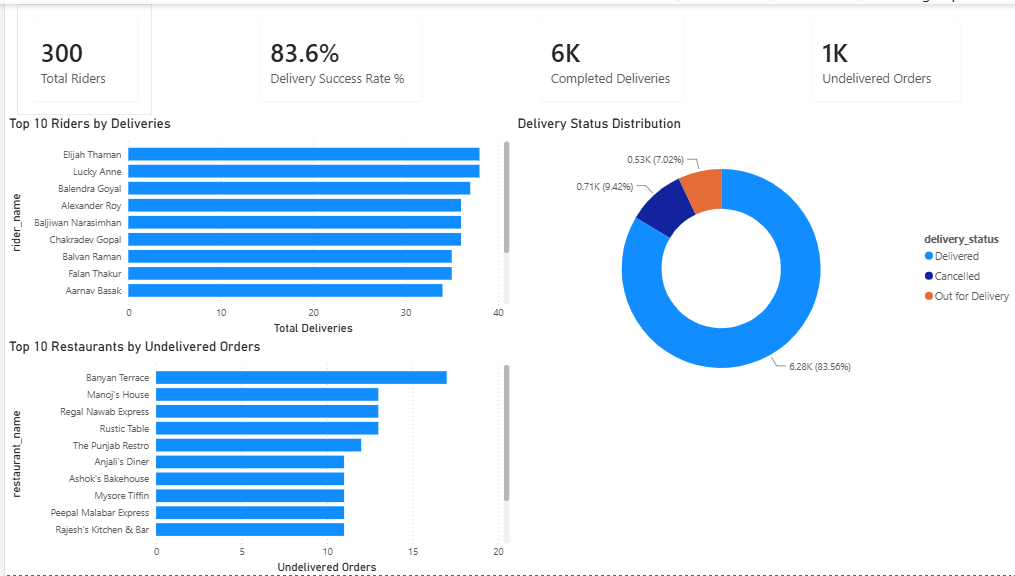

The page's visual inventory and layout, read from the dashboard file:
{"tool":"powerbi","page":{"name":"Delivery & Rider Ops","canvas":[1280,720],"ordinal":3},"visuals":[{"type":"cardVisual","fields":{"Data":["Customer Category.Total Riders"]},"box":[15.1,0,170.4,140.2],"z":0},{"type":"cardVisual","fields":{"Data":["Customer Category.Completed Deliveries"]},"box":[658,0,215.7,140.2],"z":1000},{"type":"cardVisual","fields":{"Data":["Customer Category.Undelivered Orders"]},"box":[998.8,0,222.2,140.2],"z":2000},{"type":"cardVisual","fields":{"Data":["Customer Category.Delivery Success Rate %"]},"box":[304.2,0,239.5,140.2],"z":3000},{"type":"clusteredBarChart","title":"Top 10 Riders by Deliveries","fields":{"Category":["zomato_db riders.rider_name"],"Y":["Customer Category.Total Deliveries"]},"box":[0,140.2,640.7,280.5],"z":4000},{"type":"donutChart","title":"Delivery Status Distribution","fields":{"Category":["zomato_db deliveries.delivery_status"],"Y":["CountNonNull(zomato_db deliveries.delivery_id)"]},"box":[640.7,140.2,638.6,366.7],"z":5000},{"type":"clusteredBarChart","title":"Top 10 Restaurants by Undelivered Orders","fields":{"Category":["zomato_db restaurants.restaurant_name"],"Y":["Customer Category.Undelivered Orders"]},"box":[0,420.7,640.7,299.9],"z":6000}]}

Visuals, with their boxes in screenshot pixels (x1, y1, x2, y2), scaled from the page's 1280x720 canvas onto the 1015x576 screenshot:
cardVisual - Customer Category.Total Riders: x1=12 y1=0 x2=147 y2=112
cardVisual - Customer Category.Completed Deliveries: x1=522 y1=0 x2=693 y2=112
cardVisual - Customer Category.Undelivered Orders: x1=792 y1=0 x2=968 y2=112
cardVisual - Customer Category.Delivery Success Rate %: x1=241 y1=0 x2=431 y2=112
"Top 10 Riders by Deliveries" clusteredBarChart: x1=0 y1=112 x2=508 y2=337
"Delivery Status Distribution" donutChart: x1=508 y1=112 x2=1014 y2=406
"Top 10 Restaurants by Undelivered Orders" clusteredBarChart: x1=0 y1=337 x2=508 y2=575
